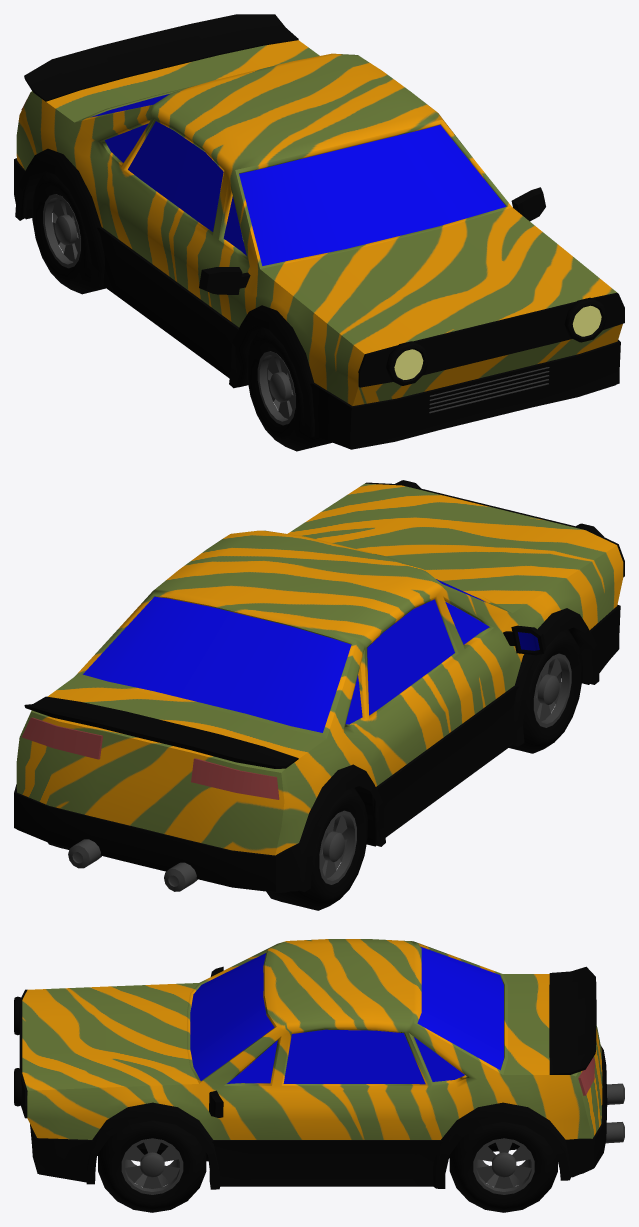
The model's file is Muscle Evolution2 Black ZebraOrangeKaki Blue DarkGrey.gltf.
3 views of the same model, one above another, from view 1: azimuth 30°, elevation 25°; view 2: azimuth 150°, elevation 25°; view 3: azimuth 270°, elevation 25° (orthographic). The views are drawn at different scales.
Parts seen in each view (by area): view 1: evo2_body2_f1_dupl, evo2_frontGlass_f1_dupl, evo2_sill2_f1_dupl, evo2_spoiler2_f1_dupl, evo2_front_square2_f1_dupl, evo2_glasseBigR_f1_dupl, evo2_mudguardFR_f1_dupl, evo2_mudguardbR_f1_dupl, evo2_tire_rf1_f1_dupl, evo2_tire_rf_f1_dupl, evo2_rim_A_rf_f1_dupl, evo2_rim_A_rb_f1_dupl (+9 smaller); view 2: evo2_body2_f1_dupl, evo2_BackGlassGlass_f1_dupl, evo2_sill2_f1_dupl, evo2_spoiler2_f1_dupl, evo2_glasseBigR_f1_dupl, evo2_tire_rf_f1_dupl, evo2_mudguardbR_f1_dupl, evo2_mudguardFR_f1_dupl, evo2_tire_rf1_f1_dupl, evo2_rim_A_rf_f1_dupl, evo2_rim_A_rb_f1_dupl, evo2_redlightR2_f1_dupl (+5 smaller); view 3: evo2_body2_f1_dupl, evo2_sill2_f1_dupl, evo2_BackGlassGlass_f1_dupl, evo2_glasseBigL_f1_dupl, evo2_frontGlass_f1_dupl, evo2_tire_lf_f1_dupl, evo2_tire_lb_f1_dupl, evo2_spoiler2_f1_dupl, evo2_mudguardBL_f1_dupl, evo2_mudguardFL_f1_dupl, evo2_rim_A_lf_f1_dupl, evo2_rim_A_lb_f1_dupl (+4 smaller).
Part boxes in pixels (left/top/right/bottom): evo2_body2_f1_dupl: left=16, top=40, right=622, bottom=405; evo2_frontGlass_f1_dupl: left=239, top=125, right=505, bottom=265; evo2_sill2_f1_dupl: left=14, top=158, right=620, bottom=449; evo2_spoiler2_f1_dupl: left=24, top=14, right=298, bottom=101; evo2_front_square2_f1_dupl: left=358, top=292, right=624, bottom=387; evo2_glasseBigR_f1_dupl: left=128, top=121, right=223, bottom=231; evo2_mudguardFR_f1_dupl: left=229, top=305, right=314, bottom=437; evo2_mudguardbR_f1_dupl: left=15, top=148, right=104, bottom=286; evo2_tire_rf1_f1_dupl: left=247, top=327, right=331, bottom=451; evo2_tire_rf_f1_dupl: left=32, top=171, right=105, bottom=294; evo2_rim_A_rf_f1_dupl: left=257, top=351, right=295, bottom=425; evo2_rim_A_rb_f1_dupl: left=43, top=194, right=80, bottom=268; evo2_body2_f1_dupl: left=16, top=483, right=623, bottom=855; evo2_BackGlassGlass_f1_dupl: left=83, top=596, right=351, bottom=732; evo2_sill2_f1_dupl: left=14, top=605, right=620, bottom=891; evo2_spoiler2_f1_dupl: left=24, top=696, right=298, bottom=768; evo2_glasseBigR_f1_dupl: left=367, top=599, right=454, bottom=715; evo2_tire_rf_f1_dupl: left=266, top=787, right=367, bottom=910; evo2_mudguardbR_f1_dupl: left=299, top=764, right=385, bottom=891; evo2_mudguardFR_f1_dupl: left=512, top=608, right=599, bottom=746; evo2_tire_rf1_f1_dupl: left=509, top=629, right=582, bottom=753; evo2_rim_A_rf_f1_dupl: left=533, top=653, right=571, bottom=727; evo2_rim_A_rb_f1_dupl: left=319, top=810, right=356, bottom=884; evo2_redlightR2_f1_dupl: left=191, top=758, right=279, bottom=799; evo2_body2_f1_dupl: left=22, top=939, right=602, bottom=1159; evo2_sill2_f1_dupl: left=30, top=1045, right=607, bottom=1186; evo2_BackGlassGlass_f1_dupl: left=417, top=946, right=503, bottom=1070; evo2_glasseBigL_f1_dupl: left=283, top=1029, right=425, bottom=1084; evo2_frontGlass_f1_dupl: left=190, top=953, right=274, bottom=1080; evo2_tire_lf_f1_dupl: left=98, top=1120, right=206, bottom=1212; evo2_tire_lb_f1_dupl: left=449, top=1122, right=557, bottom=1212; evo2_spoiler2_f1_dupl: left=549, top=966, right=596, bottom=1074; evo2_mudguardBL_f1_dupl: left=433, top=1102, right=570, bottom=1188; evo2_mudguardFL_f1_dupl: left=86, top=1102, right=220, bottom=1189; evo2_rim_A_lf_f1_dupl: left=121, top=1138, right=183, bottom=1194; evo2_rim_A_lb_f1_dupl: left=473, top=1138, right=534, bottom=1194.
Size of the model in its own units: 177 by 112 by 331.
7 materials, 1 textured.
